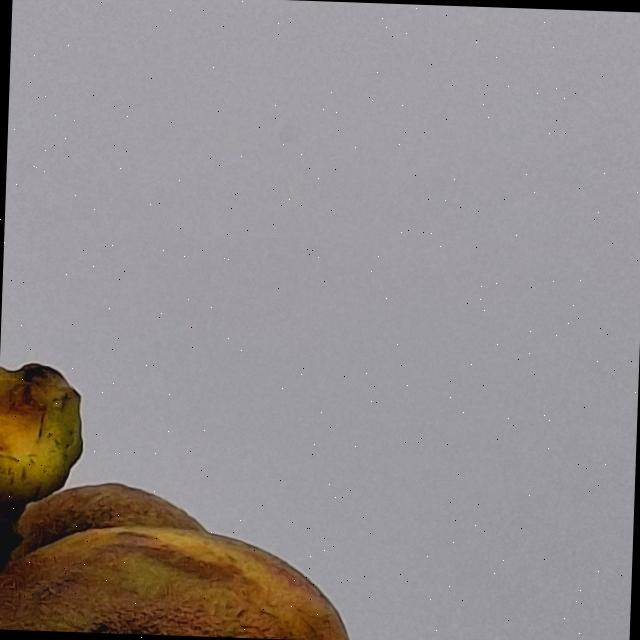mangosteen: (0, 189, 640, 640)
